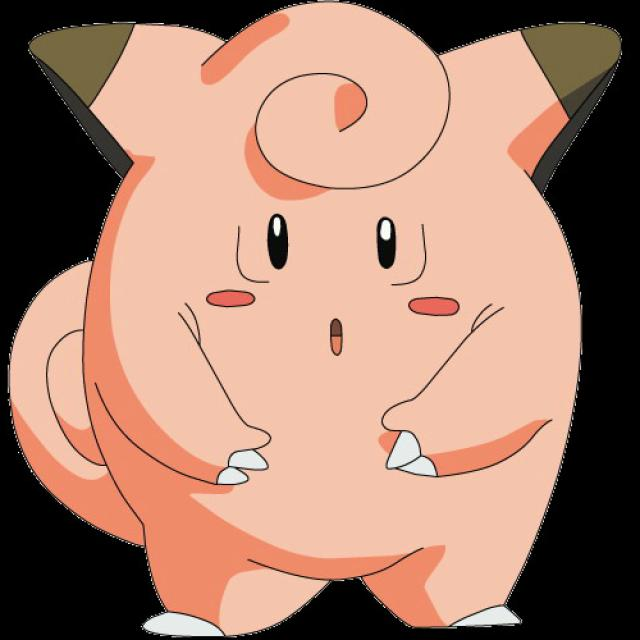Clefairy: (42, 11, 602, 631)
